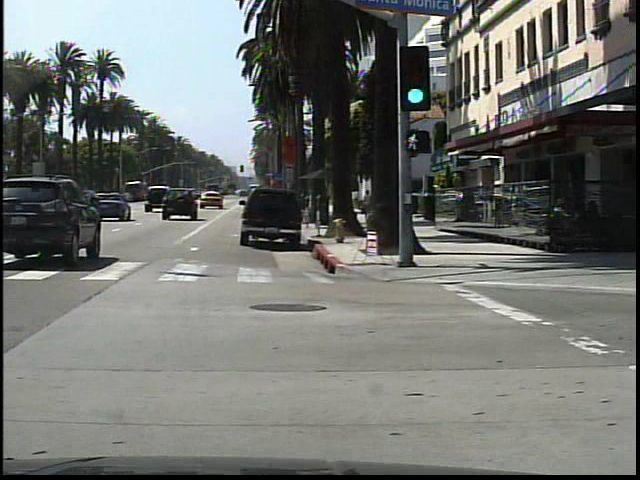person: (363, 184, 376, 226)
